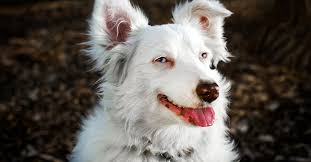dog: (76, 3, 255, 142)
